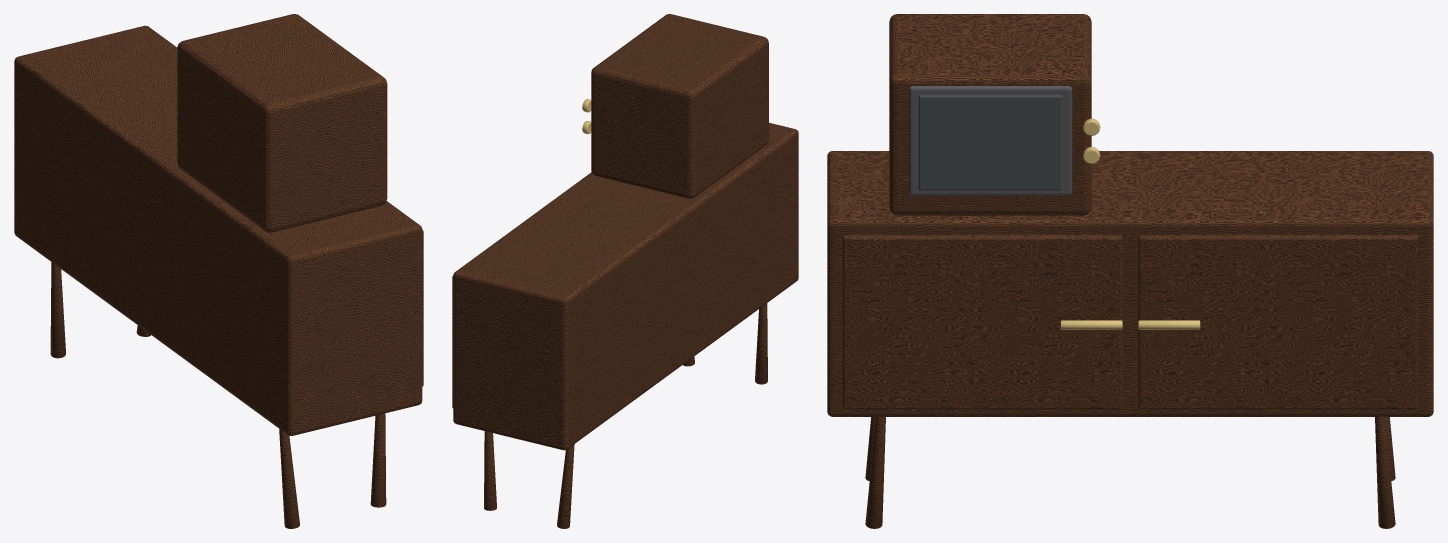
File: interior-prop-credenza.glb
3 renders of one model, left to right at view 1: azimuth 30°, elevation 25°; view 2: azimuth 150°, elevation 25°; view 3: azimuth 270°, elevation 25°, orthographic. The views are drawn at different scales.
Parts seen in each view (by area): view 1: tv-unit-carcass, tv-unit-tv-body, tv-unit-leg-2, tv-unit-leg-0, tv-unit-leg-3; view 2: tv-unit-carcass, tv-unit-tv-body, tv-unit-leg-3, tv-unit-leg-1, tv-unit-leg-2; view 3: tv-unit-carcass, tv-unit-door-0, tv-unit-door-1, tv-unit-tv-body, tv-unit-tv-screen, tv-unit-tv-bezel, tv-unit-leg-0, tv-unit-leg-1.
Boxes of the visible parts, <box> form: tv-unit-carcass: <box>14,25,422,435</box>; tv-unit-tv-body: <box>177,14,387,232</box>; tv-unit-leg-2: <box>279,429,299,528</box>; tv-unit-leg-0: <box>370,413,386,507</box>; tv-unit-leg-3: <box>50,262,65,358</box>; tv-unit-carcass: <box>453,122,798,450</box>; tv-unit-tv-body: <box>591,14,768,198</box>; tv-unit-leg-3: <box>557,444,574,528</box>; tv-unit-leg-1: <box>484,431,496,510</box>; tv-unit-leg-2: <box>755,303,767,384</box>; tv-unit-carcass: <box>827,151,1433,416</box>; tv-unit-door-0: <box>842,234,1122,409</box>; tv-unit-door-1: <box>1138,234,1418,409</box>; tv-unit-tv-body: <box>889,14,1091,215</box>; tv-unit-tv-screen: <box>918,95,1062,190</box>; tv-unit-tv-bezel: <box>909,86,1072,195</box>; tv-unit-leg-0: <box>865,417,885,528</box>; tv-unit-leg-1: <box>1375,417,1395,528</box>.
Size of the model in its own units: 0.482 by 1.3 by 1.56.
5 materials, 2 textured.
